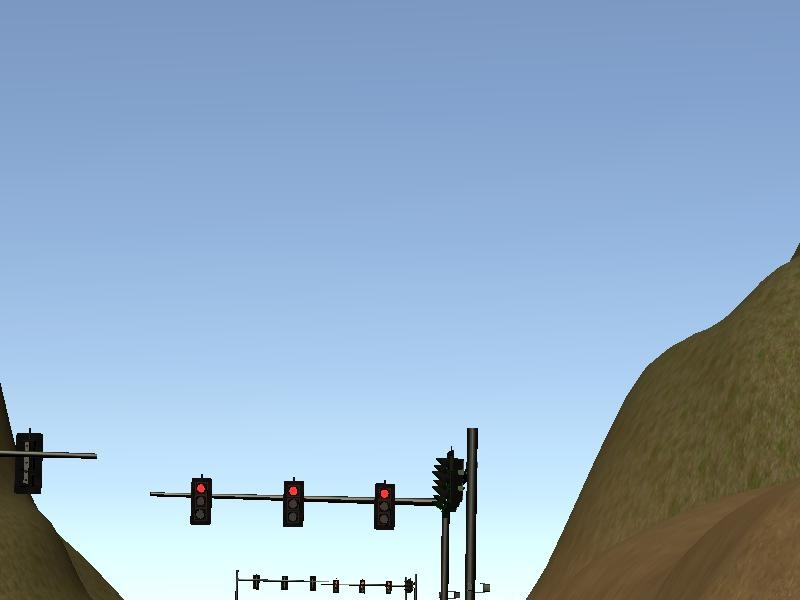red: (280, 477, 307, 529), (187, 477, 214, 527), (372, 482, 396, 530)
